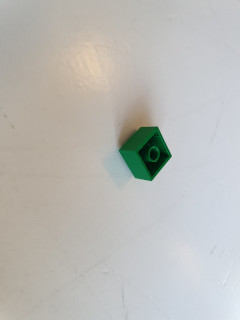2x2 green: (119, 124, 175, 182)
